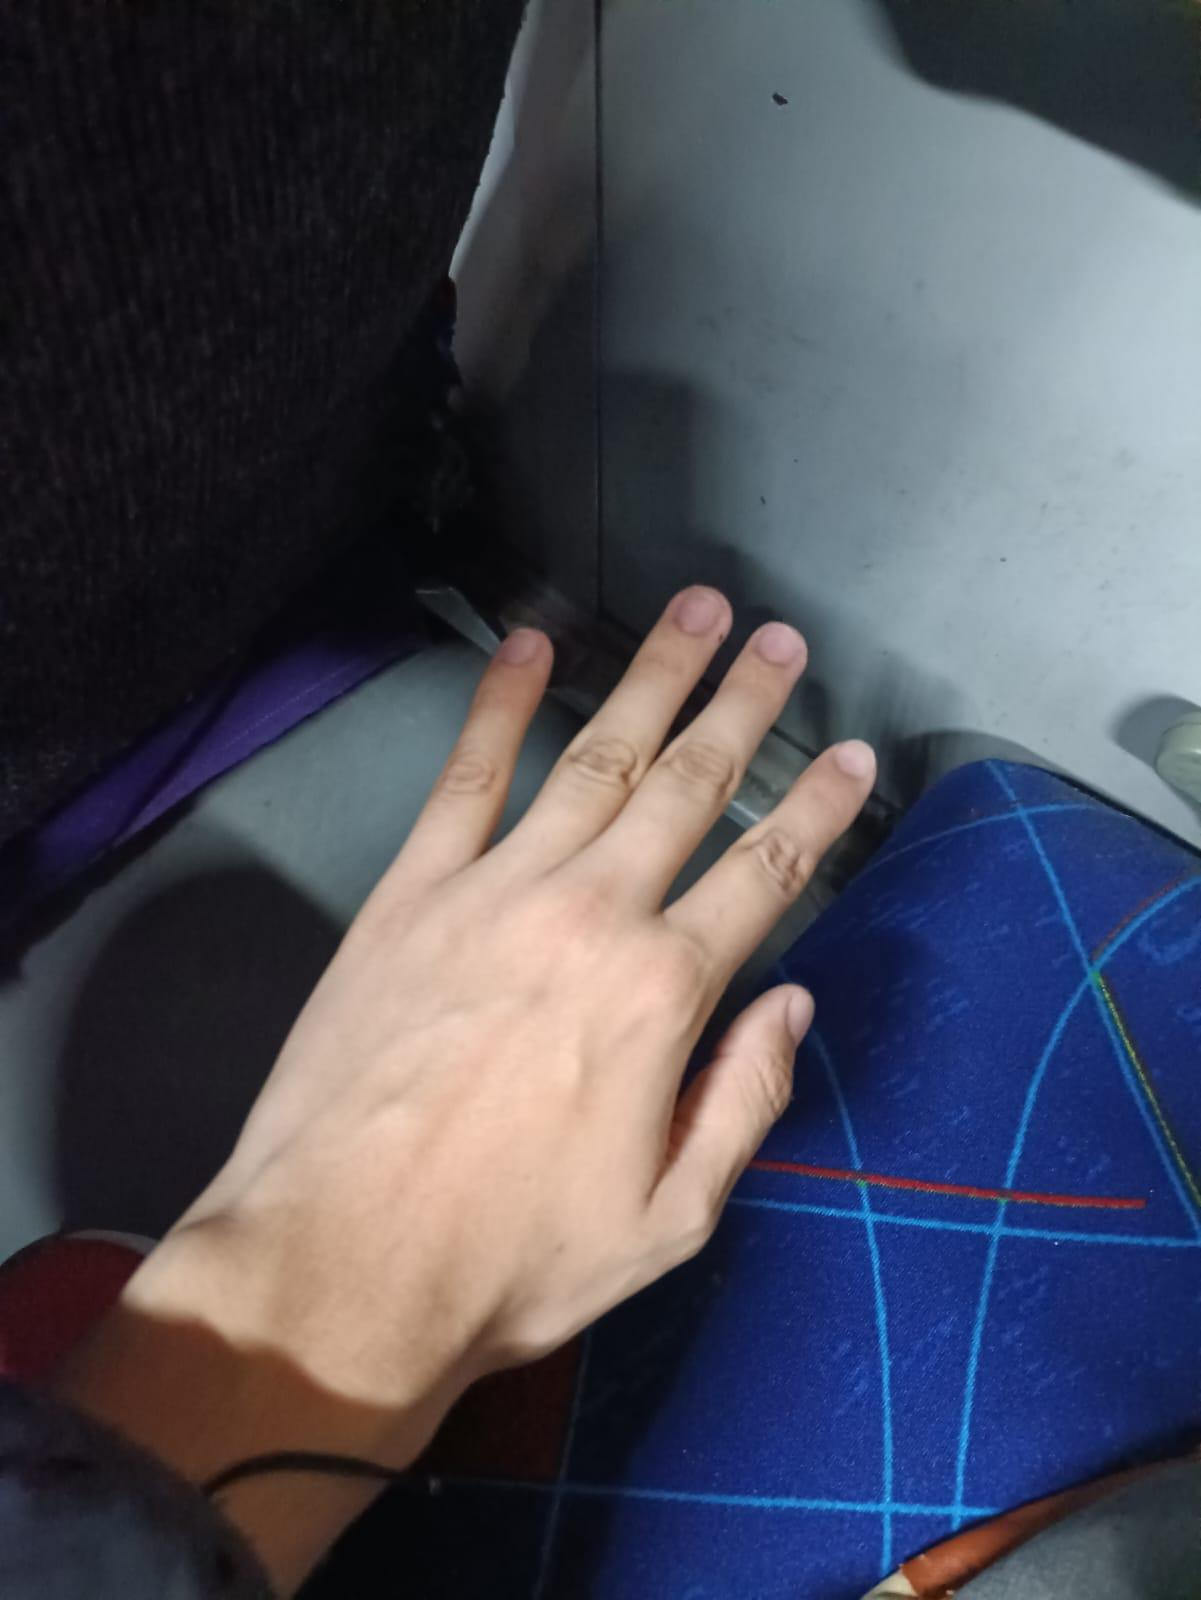Paper: (0, 490, 997, 1580)
